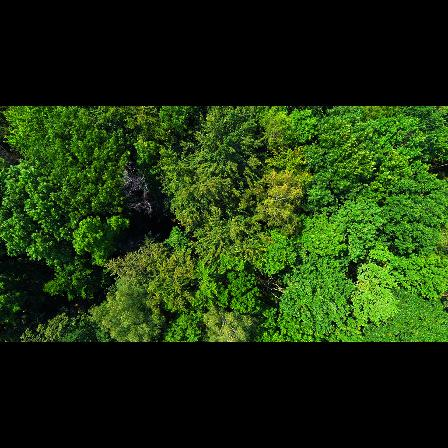Dead: (118, 161, 157, 214)
